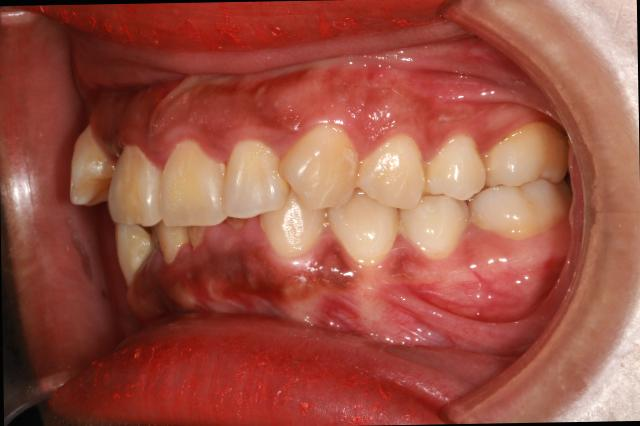canine class II 1/4: (256, 118, 402, 274)
molar class I: (465, 118, 576, 245)
